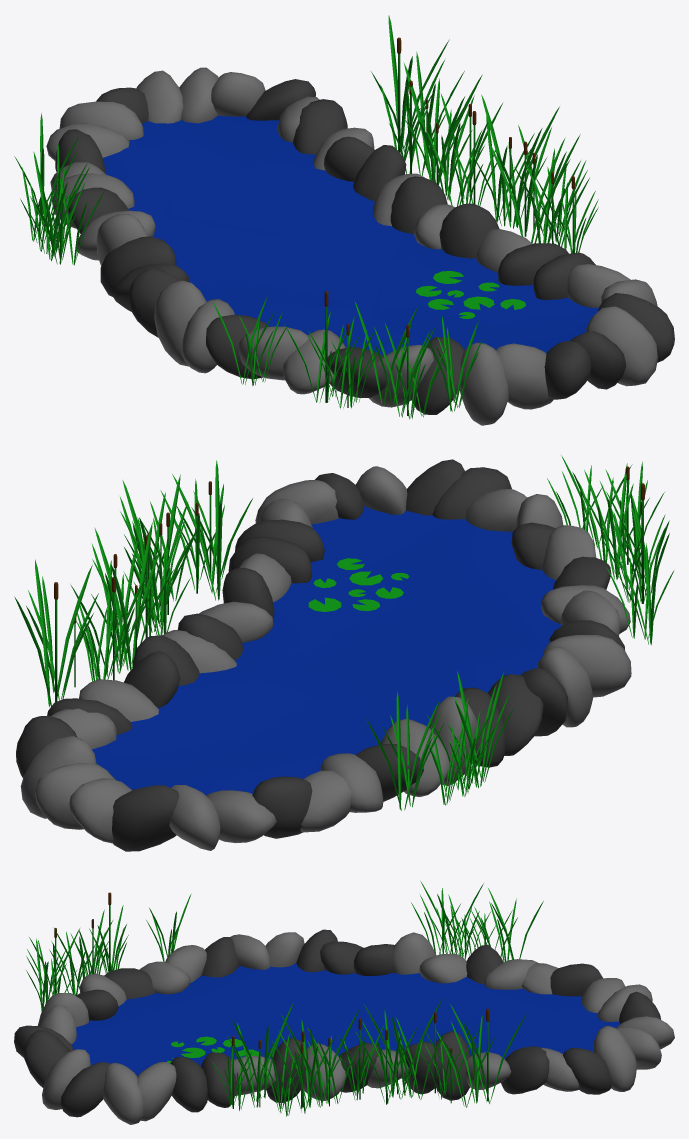
File: pond .fbx
3 views of the same model, one above another, from view 1: azimuth 30°, elevation 25°; view 2: azimuth 150°, elevation 25°; view 3: azimuth 270°, elevation 25° (orthographic). The views are drawn at different scales.
Parts seen in each view (by area): view 1: Cube; view 2: Cube; view 3: Cube.
Part boxes in pixels (x1,y1,x2,y2): Cube: [14, 15, 674, 425]; Cube: [14, 455, 673, 851]; Cube: [14, 881, 674, 1124].
Bounding box in the file's own units: 1239 × 386 × 1932.
